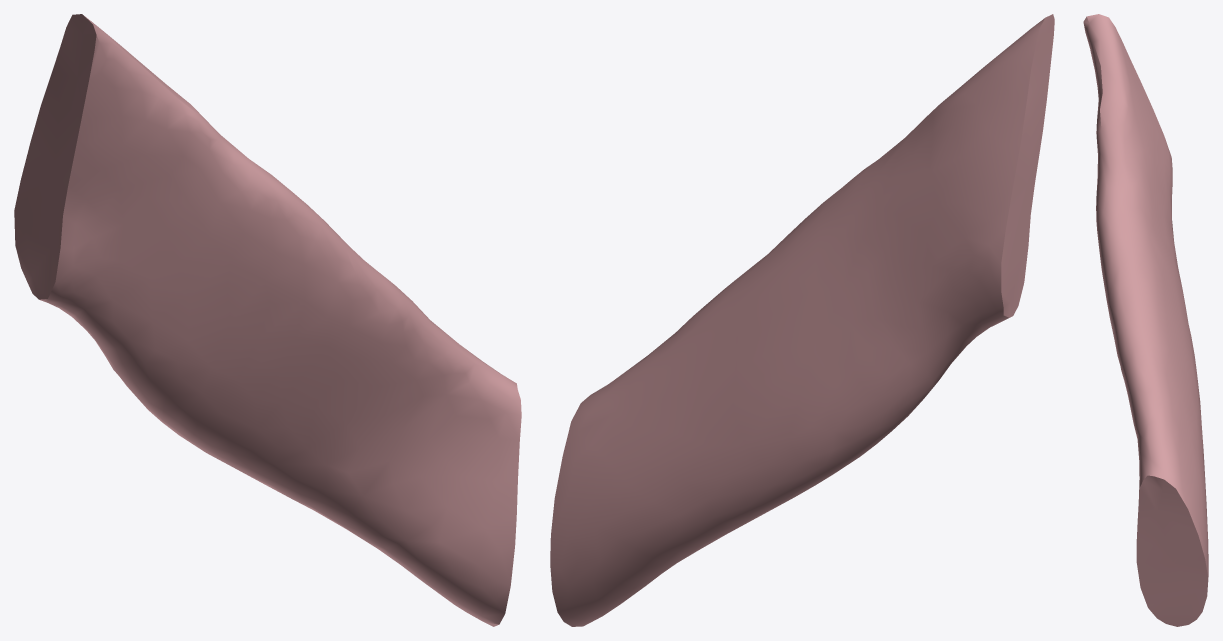
File: fma297728_mm4010.glb
3 renders of one model, left to right at view 1: azimuth 30°, elevation 25°; view 2: azimuth 150°, elevation 25°; view 3: azimuth 270°, elevation 25°, orthographic. The views are drawn at different scales.
Visible parts, largest first — view 1: FMA297728_MM4010; view 2: FMA297728_MM4010; view 3: FMA297728_MM4010.
Boxes of the visible parts, left/top/right/bottom form: FMA297728_MM4010: left=14, top=14, right=521, bottom=626; FMA297728_MM4010: left=550, top=14, right=1054, bottom=626; FMA297728_MM4010: left=1083, top=14, right=1208, bottom=626.
Bounding box in the file's own units: 0.0467 × 0.0696 × 0.0167.
